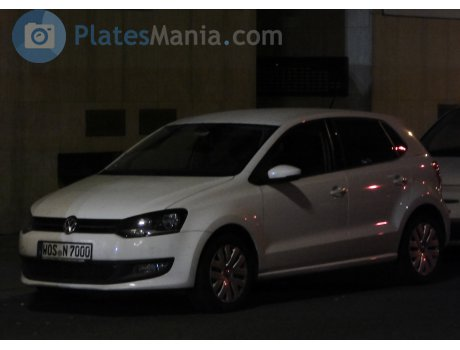License Plates: (41, 240, 91, 257)
